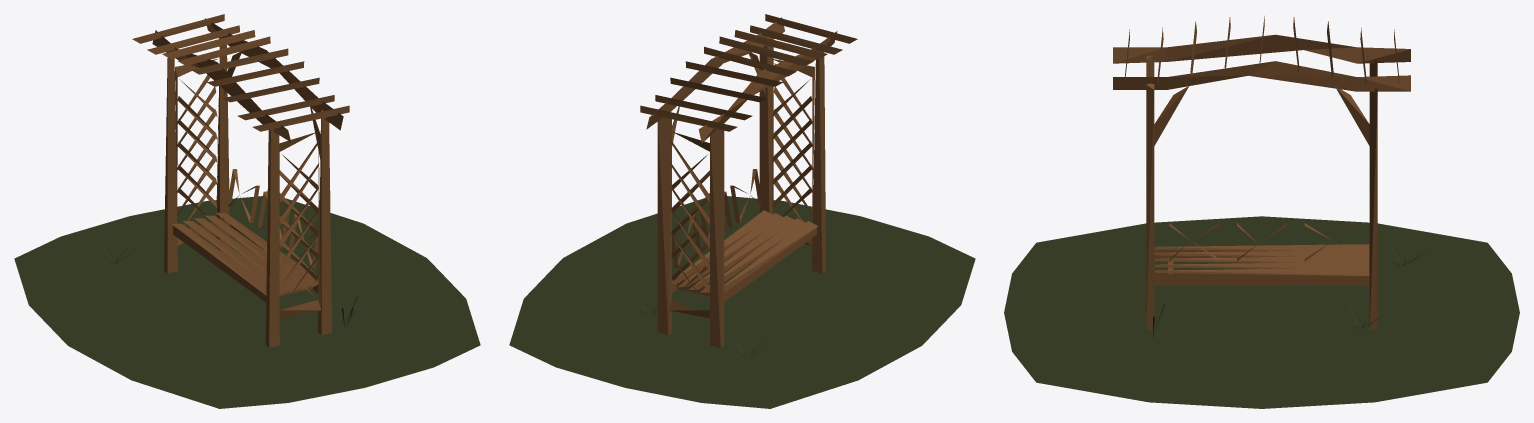
The model's file is bay-pergola.lod2.glb.
3 renders of one model, left to right at view 1: azimuth 30°, elevation 25°; view 2: azimuth 150°, elevation 25°; view 3: azimuth 270°, elevation 25°, orthographic. The views are drawn at different scales.
Parts seen in each view (by area): view 1: Pergala_UV_ex_Pergala_0; view 2: Pergala_UV_ex_Pergala_0; view 3: Pergala_UV_ex_Pergala_0.
Part boxes in pixels (x1,y1,x2,y2): Pergala_UV_ex_Pergala_0: [14, 14, 480, 408]; Pergala_UV_ex_Pergala_0: [509, 14, 975, 408]; Pergala_UV_ex_Pergala_0: [1004, 16, 1519, 408].
Bounding box in the file's own units: 4.27 × 2.8 × 4.83.
